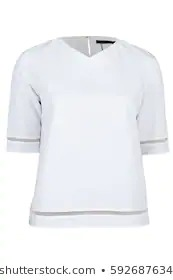S_short blouse: (5, 26, 173, 225)
